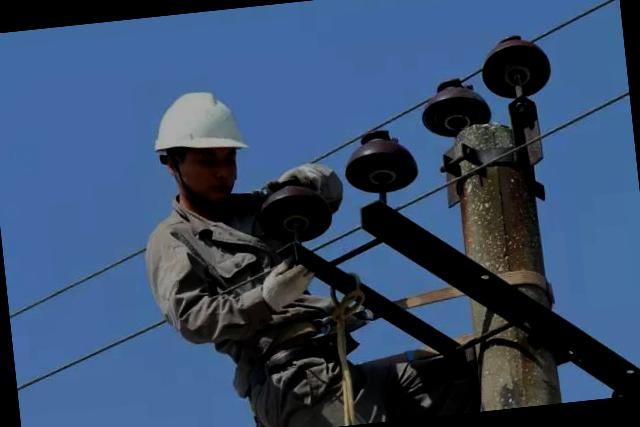helmet: (142, 88, 248, 160)
person: (114, 74, 342, 427)
